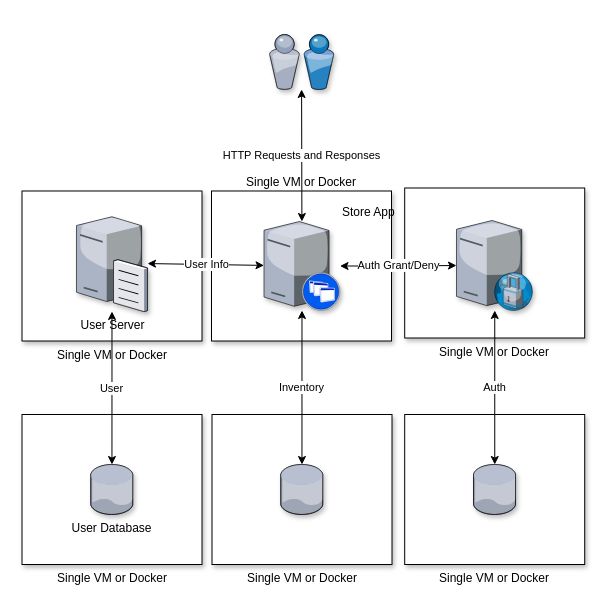
The diagram is 608 pixels wide and 602 high, and some of its shapes have lost their labels. Here are the shapes that lost their labels. From the top down, the centre of each, then its label:
At [302,63]: "Users".
At [495,266]: "Auth Server".
At [302,490]: "App/Inventory Database".
At [495,490]: "Auth Database".
